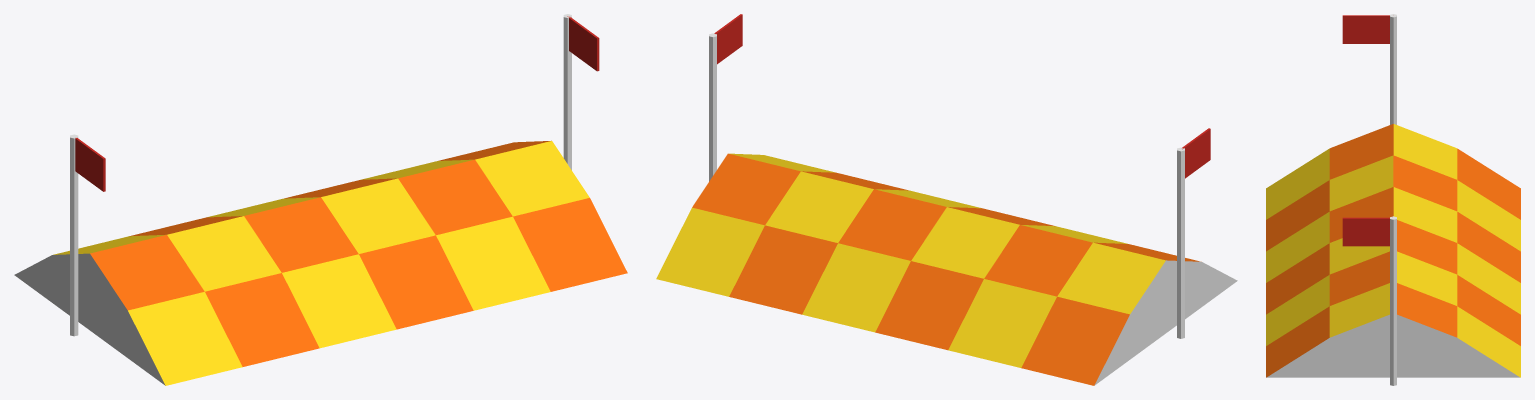
File: rampla_jetski.obj
3 views of the same model, side by side, from view 1: azimuth 30°, elevation 25°; view 2: azimuth 150°, elevation 25°; view 3: azimuth 270°, elevation 25° (orthographic). The views are drawn at different scales.
Parts seen in each view (by area): view 1: rampla_jetski; view 2: rampla_jetski; view 3: rampla_jetski.
Boxes of the visible parts, x1,y1,x2,y2 form: rampla_jetski: (14,14,627,385); rampla_jetski: (656,14,1237,385); rampla_jetski: (1266,14,1520,385).
Bounding box in the file's own units: 9.56 × 3.6 × 5.
